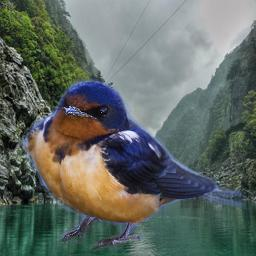Swallow: (20, 78, 246, 251)
